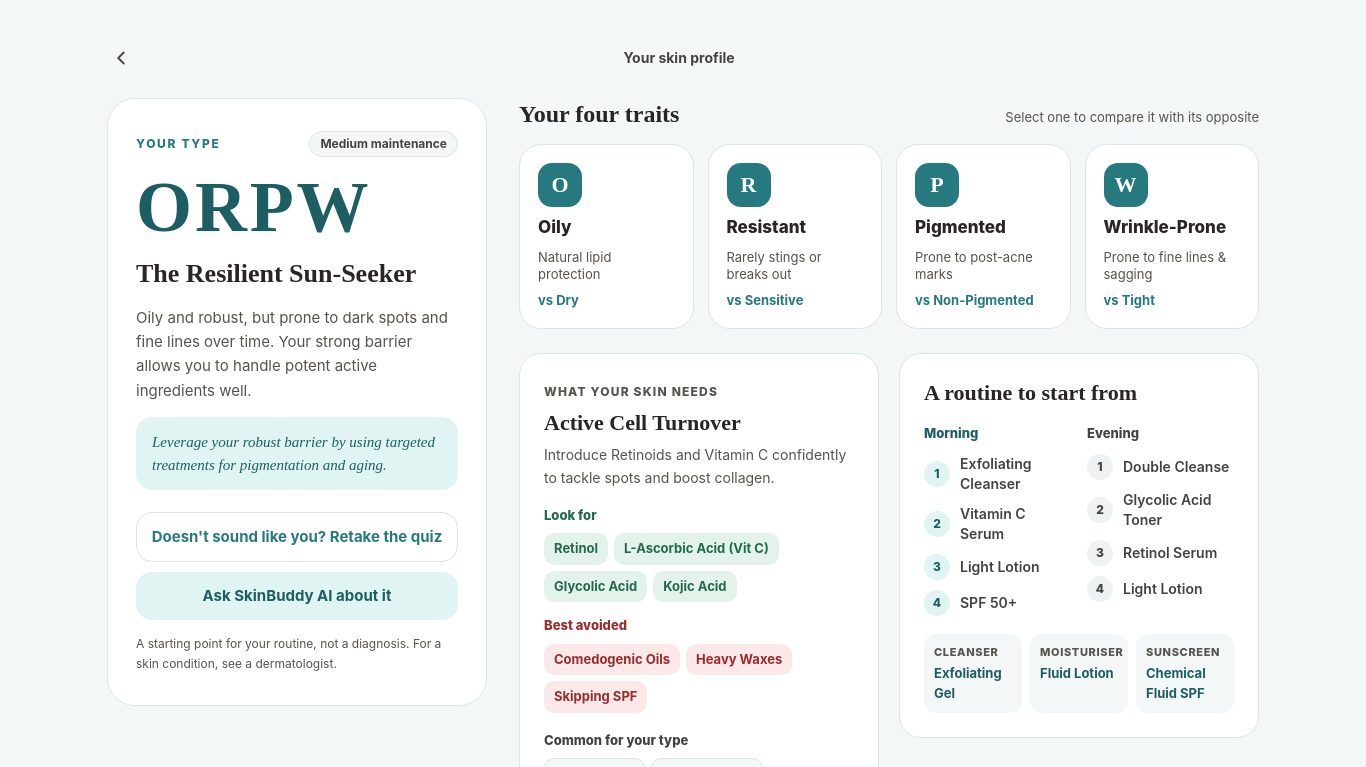
Test case: src/views/SkinProfileView.vue › comparison sheet › wraps from the fourth trait back to the first with next
Click the button "W Wrinkle-Prone Prone to fine lines & sagging vs Tight": coordinates (1172, 236) x1=1084 y1=144 x2=1259 y2=329
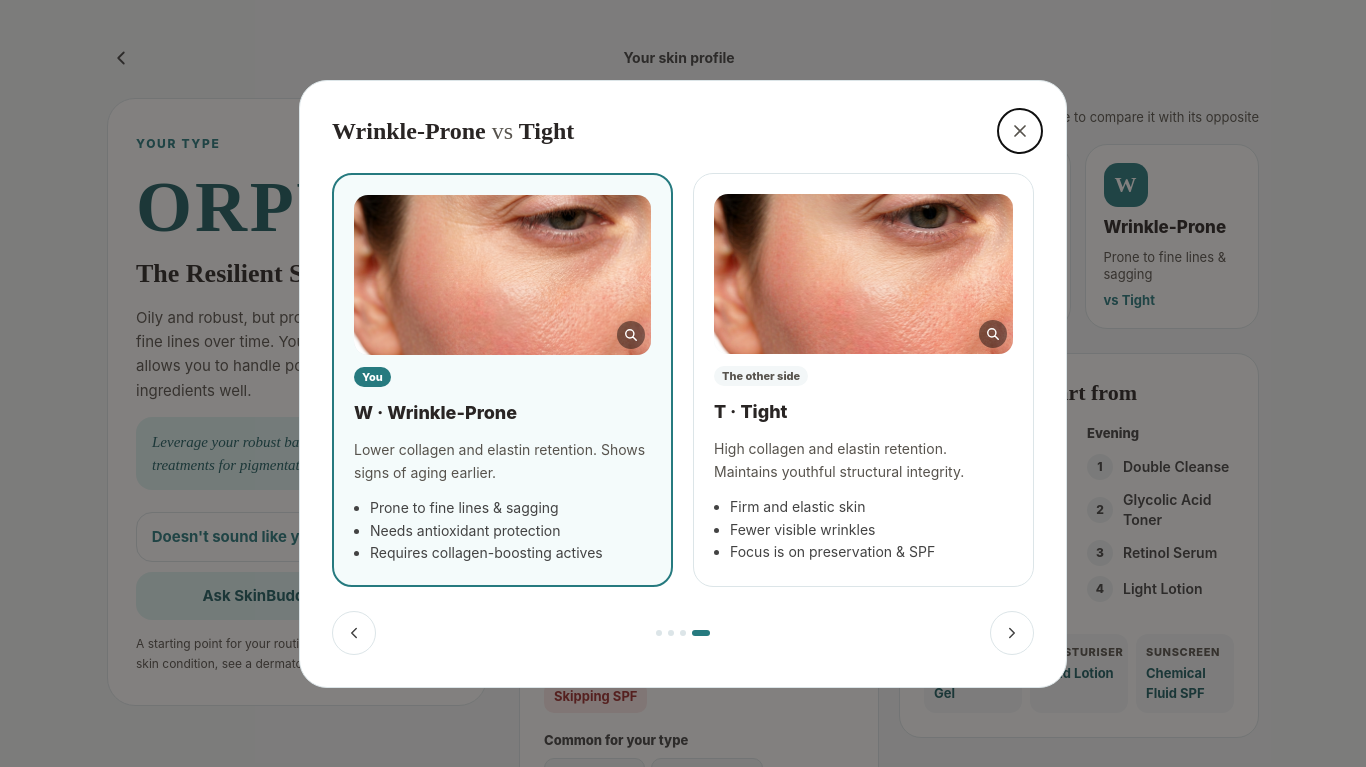
Click the button named "Next trait: Oily vs Dry": coordinates (1012, 633) x1=990 y1=611 x2=1034 y2=655
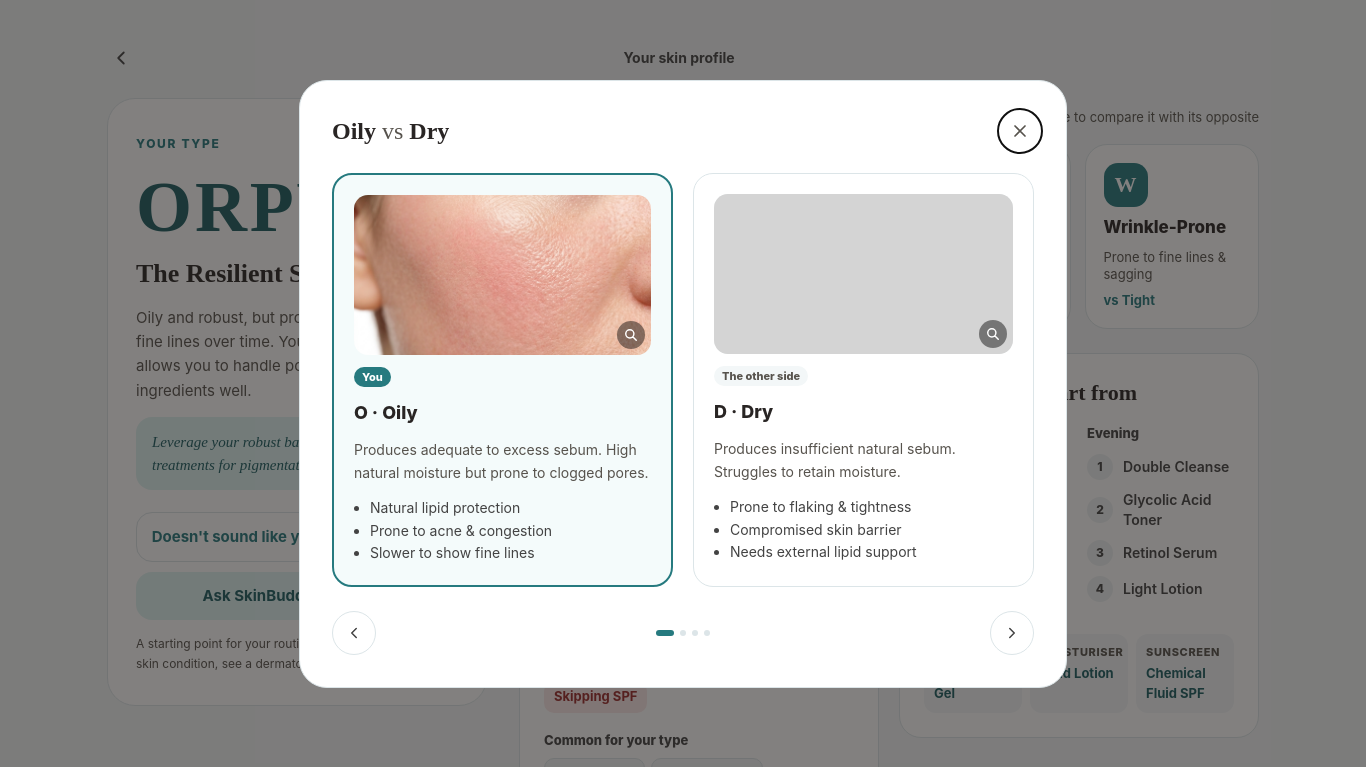
Now the heading with id "trait-sheet-heading" reads "Oily vs Dry", box x1=332 y1=115 x2=449 y2=147
